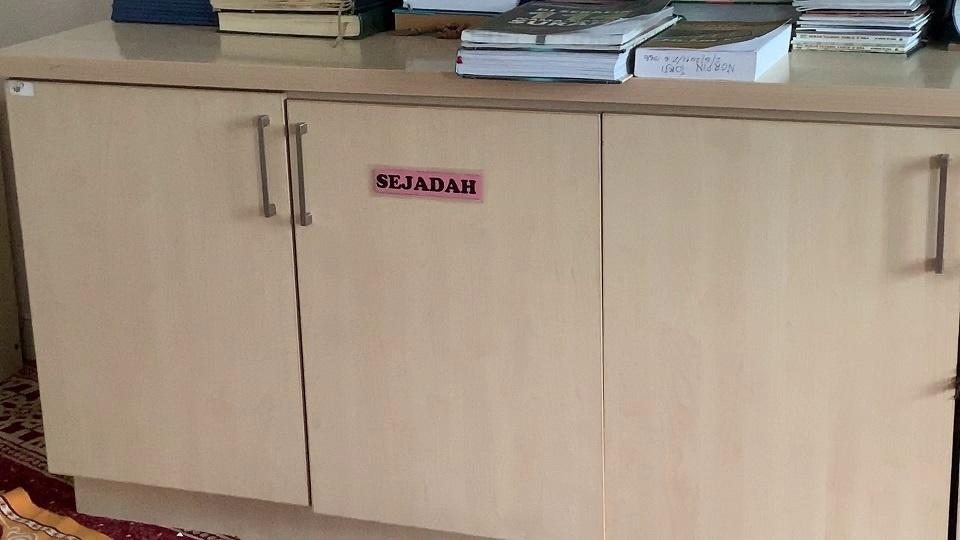cabinet_door: (612, 128, 955, 540), (302, 113, 601, 533), (42, 99, 304, 499)
handle: (925, 150, 956, 276), (252, 111, 280, 221), (291, 116, 318, 230)
